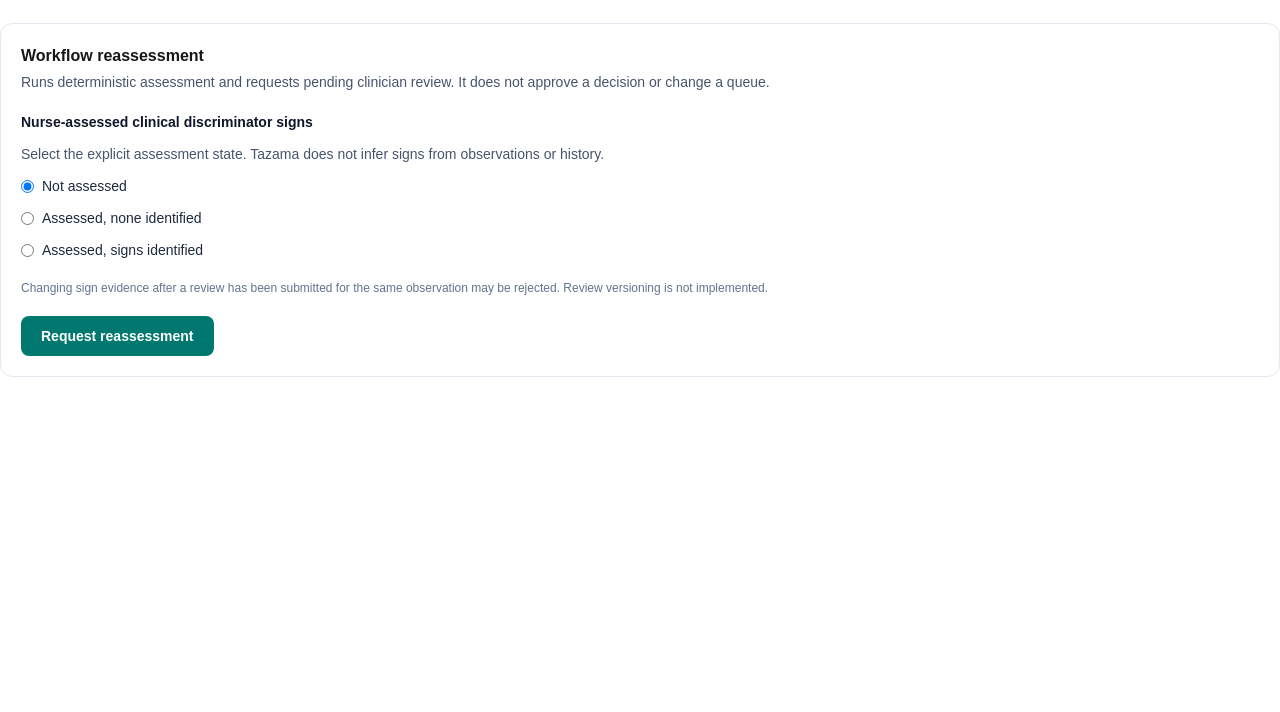
Test case: ReassessmentPanel › shows unknown sign evidence with abstention
What coordinates should you click on to do the following:
click the button "Request reassessment"
I would click on:
 (117, 336)
Its box is [21, 316, 214, 356].
(page scrolled)
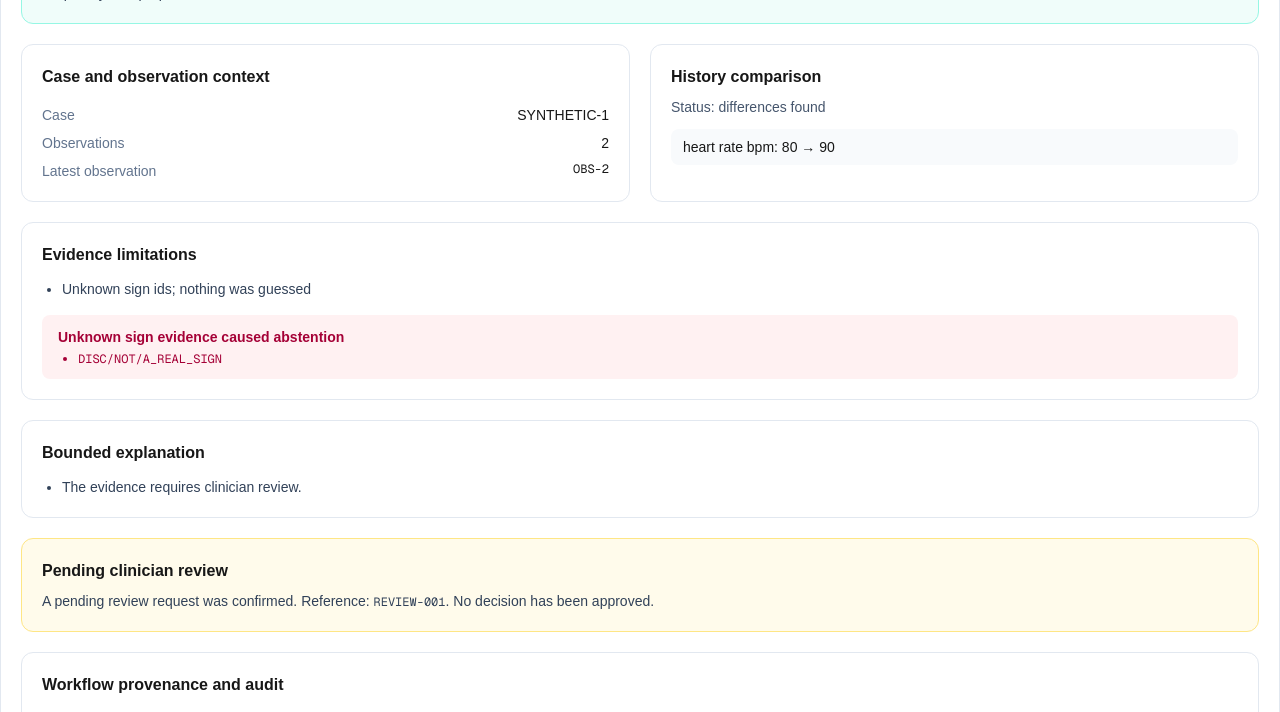
Now the text "Unknown sign evidence caused abstention" is shown, box [58, 329, 344, 345]
Now the list item "DISC/NOT/A_REAL_SIGN" is shown, box [78, 351, 222, 367]
